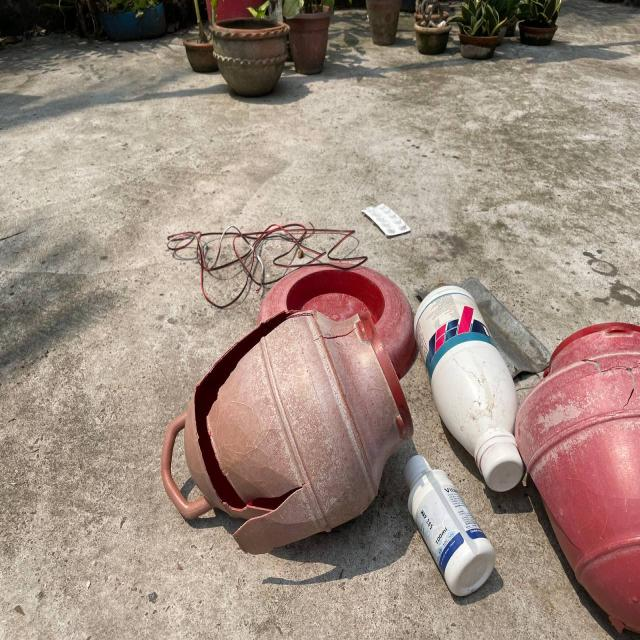Cable: (162, 210, 369, 287)
Medical Waste: (354, 187, 430, 243)
Metal: (485, 262, 556, 366)
Plastics: (160, 284, 514, 626), (538, 344, 640, 640)
